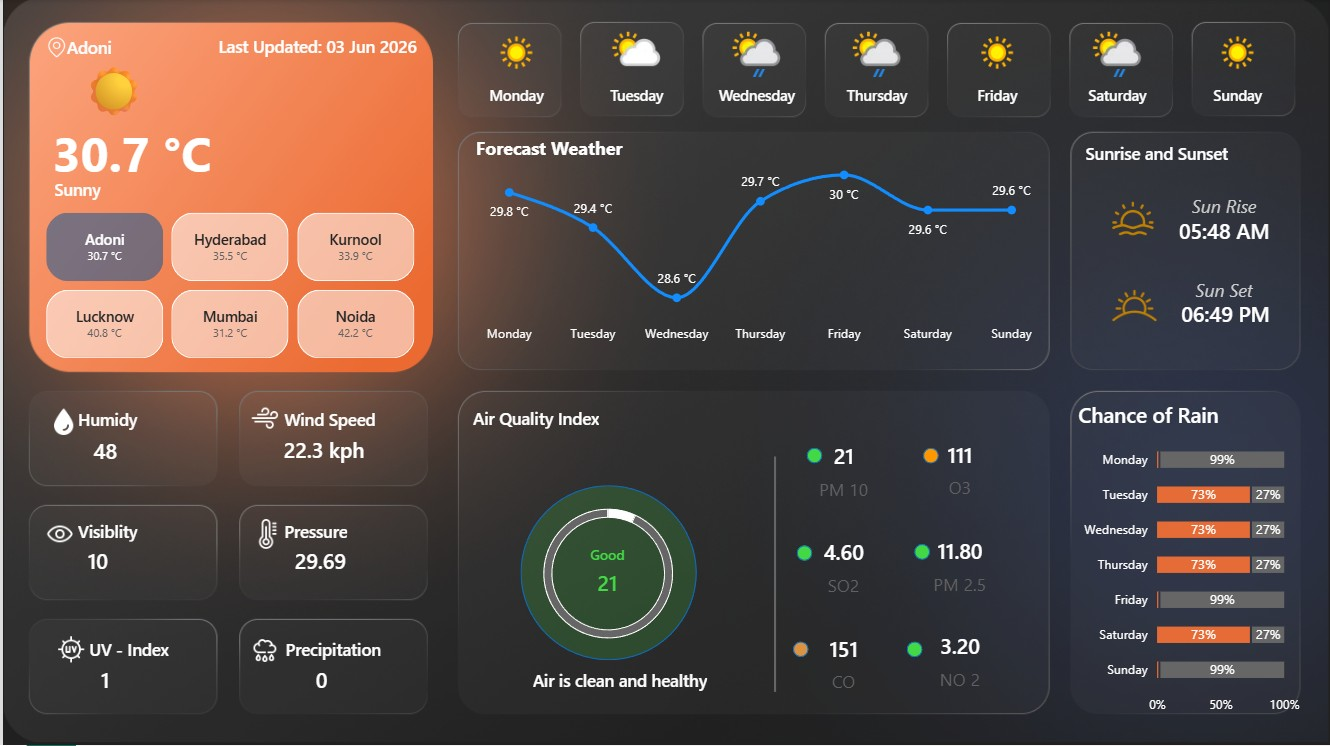

The page's visual inventory and layout, read from the dashboard file:
{"tool":"powerbi","page":{"name":"Page 1","canvas":[1280,720],"ordinal":0},"visuals":[{"type":"advancedSlicerVisual","fields":{"Label":["_Measures.Curr_temp_c"],"Values":["Location.location.name"]},"box":[21.4,205.7,395.7,141.4],"z":0},{"type":"shape","box":[35.7,104.3,177.1,88.6],"z":1000},{"type":"shape","box":[50,160,190,45.7],"z":2000},{"type":"shape","box":[61.1,23.4,137.9,46.8],"z":3000},{"type":"image","box":[41.6,36.4,19.5,20.8],"z":4000},{"type":"card","fields":{"Values":["_Measures.Weather Icon"]},"box":[54.3,35.7,107.1,101.4],"z":5000},{"type":"image","box":[22.9,501.4,64.3,28.6],"z":6000},{"type":"shape","box":[72.2,479.2,179.9,68.3],"z":7000},{"type":"image","box":[27.1,394.3,64.3,27.1],"z":8000},{"type":"shape","box":[72.2,371.5,179.9,68.3],"z":9000},{"type":"image","box":[34.3,614.3,64.3,27.1],"z":10000},{"type":"shape","box":[82.7,593.4,179.9,68.3],"z":11000},{"type":"image","box":[220.6,391.2,64.3,27.6],"z":12000},{"type":"image","box":[225,501.4,62.9,28.6],"z":13000},{"type":"image","box":[220.6,615.7,64.3,27.6],"z":14000},{"type":"shape","box":[271.8,371.5,179.9,68.3],"z":15000},{"type":"shape","box":[271.8,479.2,179.9,68.3],"z":16000},{"type":"shape","box":[273.1,593.4,179.9,68.3],"z":17000},{"type":"card","fields":{"Values":["Sum(Current.current.humidity)"]},"box":[42,407,112.9,64.3],"z":18000},{"type":"card","fields":{"Values":["_Measures.Wind_Speed"]},"box":[253.4,405.7,112.9,64.3],"z":19000},{"type":"card","fields":{"Values":["Sum(Current.current.pressure_in)"]},"box":[250,513.3,112.9,64.3],"z":20000},{"type":"card","fields":{"Values":["Sum(Current.current.uv)"]},"box":[42,627.5,112.9,64.3],"z":21000},{"type":"card","fields":{"Values":["Sum(Current.current.precip_in)"]},"box":[250.7,627.5,112.9,64.3],"z":22000},{"type":"card","fields":{"Values":["Sum(Current.current.vis_km)"]},"box":[35.4,513.3,112.9,64.3],"z":23000},{"type":"advancedSlicerVisual","fields":{"Values":["Forcast_Day.Day_Name"]},"box":[441.4,22.9,808.6,88.6],"z":24000},{"type":"lineChart","title":"Forecast Weather","fields":{"Category":["Forcast_Day.Day_Name"],"Y":["Sum(Forcast_Day.forecast.forecastday.day.avgtemp_c)"]},"box":[440,118.3,581.4,233.7],"z":25000},{"type":"shape","box":[1044.8,114.6,179.8,68.8],"z":26000},{"type":"shape","box":[1090.7,178.9,176,89.5],"z":27000},{"type":"shape","box":[1092.2,259.7,176,89.5],"z":28000},{"type":"shape","box":[1090.7,137.1,176,122.6],"z":29000},{"type":"shape","box":[1090.7,235.2,176,89.5],"z":30000},{"type":"image","box":[1069.1,191.9,43.3,40.4],"z":31000},{"type":"image","box":[1057.5,268.4,67.8,56.3],"z":32000},{"type":"hundredPercentStackedBarChart","title":"Chance of Rain","fields":{"Category":["Forcast_Day.Day_Name"],"Y":["_Measures.Rain Chance %","_Measures.No Rain %"]},"box":[1021.4,372.9,245.7,337.1],"z":33000},{"type":"shape","box":[453,369.3,180.3,69.3],"z":34000},{"type":"card","fields":{"Values":["Sum(Current.current.air_quality.o3)"]},"box":[867.6,407.3,112.2,91.4],"z":35000},{"type":"card","fields":{"Values":["Sum(Current.current.air_quality.pm2_5)"]},"box":[867.6,500.1,112.2,91.4],"z":36000},{"type":"card","fields":{"Values":["Sum(Current.current.air_quality.no2)"]},"box":[867.6,592.9,112.2,91.4],"z":37000},{"type":"card","fields":{"Values":["Sum(Current.current.air_quality.pm10)"]},"box":[755.7,409.5,112.2,91.4],"z":38000},{"type":"card","fields":{"Values":["Sum(Current.current.air_quality.so2)"]},"box":[755.7,502.3,112.2,91.4],"z":39000},{"type":"card","fields":{"Values":["Sum(Current.current.air_quality.co)"]},"box":[755.7,595.1,112.2,91.4],"z":40000},{"type":"shape","box":[775.8,433.6,15,15],"z":41000},{"type":"shape","box":[766.1,527.8,15,15],"z":42000},{"type":"shape","box":[761.9,620.6,15,15],"z":43000},{"type":"shape","box":[888,433.6,15.2,15.2],"z":44000},{"type":"shape","box":[879.7,526.4,15.2,15.2],"z":45000},{"type":"shape","box":[872.7,620.6,15.2,15.2],"z":46000},{"type":"shape","box":[655.2,441.9,180.1,227.2],"z":47000},{"type":"card","fields":{"Values":["Sum(Current.current.air_quality.pm10)"]},"box":[527.2,512.7,112.2,86.9],"z":48000},{"type":"shape","box":[499.5,469.3,170.1,168.9],"z":49000},{"type":"donutChart","fields":{"Y":["Sum(Current.current.air_quality.pm10)","_Measures.Left_Value_PM10"]},"box":[490,461.4,188.6,188.6],"z":50000},{"type":"shape","box":[459.9,622,271.5,69.3],"z":51000},{"type":"card","fields":{"Values":["_Measures.Last Updated"]},"box":[108.6,0,390,97.1],"z":52000}]}

Visuals, with their boxes in screenshot pixels (x1, y1, x2, y2), scaled from the page's 1280x720 canvas onto the 1330x746 screenshot:
advancedSlicerVisual - _Measures.Curr_temp_c x Location.location.name: <bbox>22, 213, 433, 360</bbox>
shape: <bbox>37, 108, 221, 200</bbox>
shape: <bbox>52, 166, 249, 213</bbox>
shape: <bbox>63, 24, 207, 73</bbox>
image: <bbox>43, 38, 63, 59</bbox>
card - _Measures.Weather Icon: <bbox>56, 37, 168, 142</bbox>
image: <bbox>24, 520, 91, 549</bbox>
shape: <bbox>75, 497, 262, 567</bbox>
image: <bbox>28, 409, 95, 437</bbox>
shape: <bbox>75, 385, 262, 456</bbox>
image: <bbox>36, 636, 102, 665</bbox>
shape: <bbox>86, 615, 273, 686</bbox>
image: <bbox>229, 405, 296, 434</bbox>
image: <bbox>234, 520, 299, 549</bbox>
image: <bbox>229, 638, 296, 667</bbox>
shape: <bbox>282, 385, 469, 456</bbox>
shape: <bbox>282, 497, 469, 567</bbox>
shape: <bbox>284, 615, 471, 686</bbox>
card - Sum(Current.current.humidity): <bbox>44, 422, 161, 488</bbox>
card - _Measures.Wind_Speed: <bbox>263, 420, 381, 487</bbox>
card - Sum(Current.current.pressure_in): <bbox>260, 532, 377, 598</bbox>
card - Sum(Current.current.uv): <bbox>44, 650, 161, 717</bbox>
card - Sum(Current.current.precip_in): <bbox>260, 650, 378, 717</bbox>
card - Sum(Current.current.vis_km): <bbox>37, 532, 154, 598</bbox>
advancedSlicerVisual - Forcast_Day.Day_Name: <bbox>459, 24, 1299, 116</bbox>
"Forecast Weather" lineChart: <bbox>457, 123, 1061, 365</bbox>
shape: <bbox>1086, 119, 1272, 190</bbox>
shape: <bbox>1133, 185, 1316, 278</bbox>
shape: <bbox>1135, 269, 1318, 362</bbox>
shape: <bbox>1133, 142, 1316, 269</bbox>
shape: <bbox>1133, 244, 1316, 336</bbox>
image: <bbox>1111, 199, 1156, 241</bbox>
image: <bbox>1099, 278, 1169, 336</bbox>
"Chance of Rain" hundredPercentStackedBarChart: <bbox>1061, 386, 1317, 736</bbox>
shape: <bbox>471, 383, 658, 454</bbox>
card - Sum(Current.current.air_quality.o3): <bbox>901, 422, 1018, 517</bbox>
card - Sum(Current.current.air_quality.pm2_5): <bbox>901, 518, 1018, 613</bbox>
card - Sum(Current.current.air_quality.no2): <bbox>901, 614, 1018, 709</bbox>
card - Sum(Current.current.air_quality.pm10): <bbox>785, 424, 902, 519</bbox>
card - Sum(Current.current.air_quality.so2): <bbox>785, 520, 902, 615</bbox>
card - Sum(Current.current.air_quality.co): <bbox>785, 617, 902, 711</bbox>
shape: <bbox>806, 449, 822, 465</bbox>
shape: <bbox>796, 547, 812, 562</bbox>
shape: <bbox>792, 643, 807, 659</bbox>
shape: <bbox>923, 449, 938, 465</bbox>
shape: <bbox>914, 545, 930, 561</bbox>
shape: <bbox>907, 643, 923, 659</bbox>
shape: <bbox>681, 458, 868, 693</bbox>
card - Sum(Current.current.air_quality.pm10): <bbox>548, 531, 664, 621</bbox>
shape: <bbox>519, 486, 696, 661</bbox>
donutChart - Sum(Current.current.air_quality.pm10) x _Measures.Left_Value_PM10: <bbox>509, 478, 705, 673</bbox>
shape: <bbox>478, 644, 760, 716</bbox>
card - _Measures.Last Updated: <bbox>113, 0, 518, 101</bbox>
